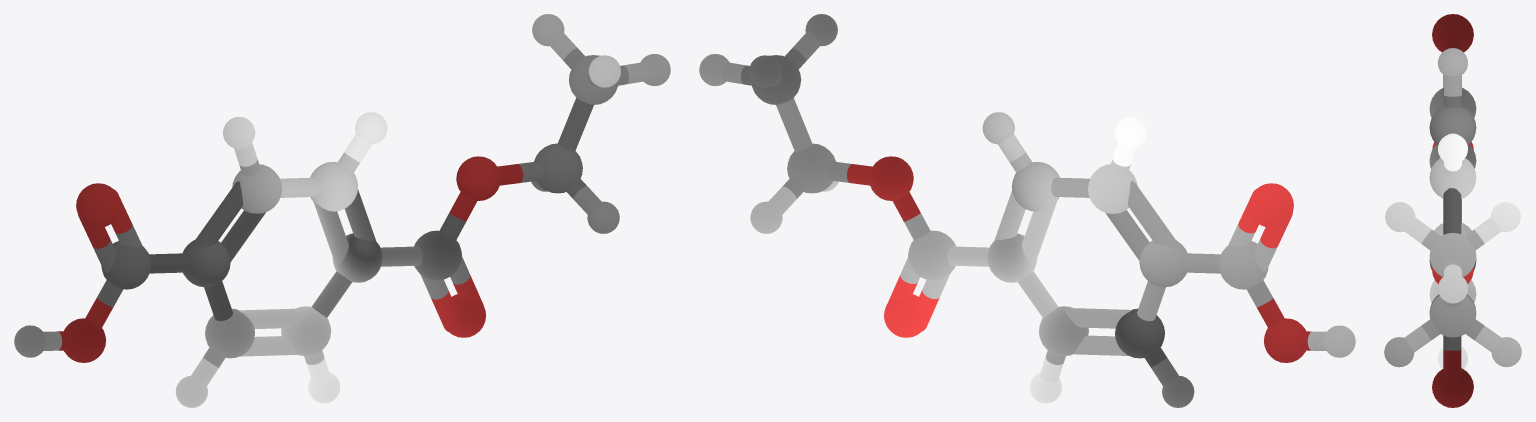
3 renders of one model, left to right at view 1: azimuth 30°, elevation 25°; view 2: azimuth 150°, elevation 25°; view 3: azimuth 270°, elevation 25°, orthographic. The views are drawn at different scales.
Visible parts, largest first — view 1: PET; view 2: PET; view 3: PET.
Boxes of the visible parts, bbox=[...] form: PET: bbox=[14, 14, 670, 407]; PET: bbox=[699, 14, 1355, 407]; PET: bbox=[1384, 14, 1521, 407].
Bounding box in the file's own units: 11.72 × 5.23 × 2.29.
